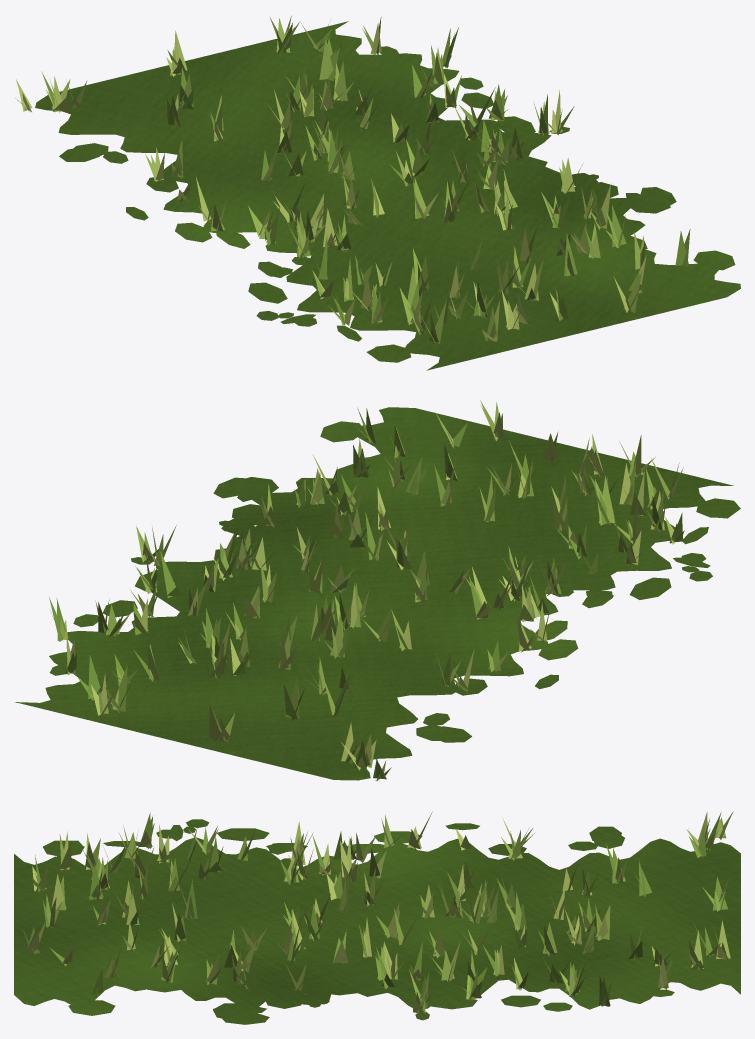
Rendered from grass_strip.glb.
3 renders of one model, top to bottom at view 1: azimuth 30°, elevation 25°; view 2: azimuth 150°, elevation 25°; view 3: azimuth 270°, elevation 25°, orthographic. The views are drawn at different scales.
Visible parts, largest first — view 1: VineyardGrassStrip; view 2: VineyardGrassStrip; view 3: VineyardGrassStrip.
Part boxes in pixels (left/top/right/bottom): VineyardGrassStrip: left=15, top=15, right=740, bottom=370; VineyardGrassStrip: left=15, top=400, right=740, bottom=780; VineyardGrassStrip: left=14, top=811, right=740, bottom=1024.
Size of the model in its own units: 2.01 by 0.173 by 3.
4 materials, 1 textured.
